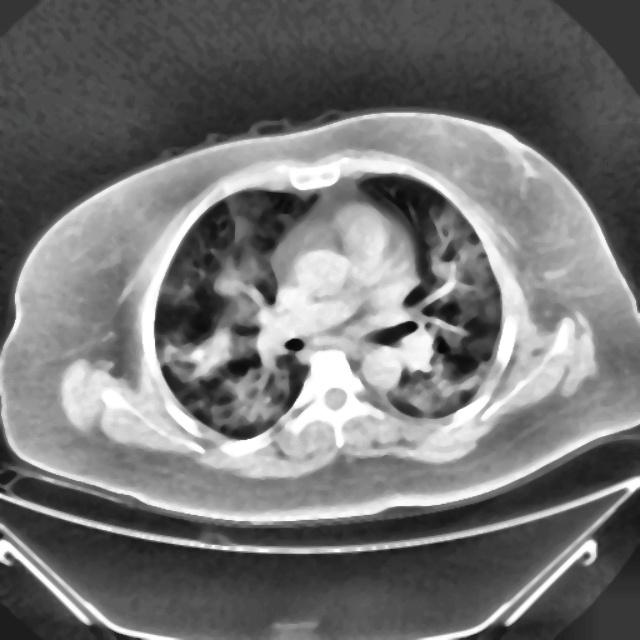covid: (1, 107, 638, 532)
